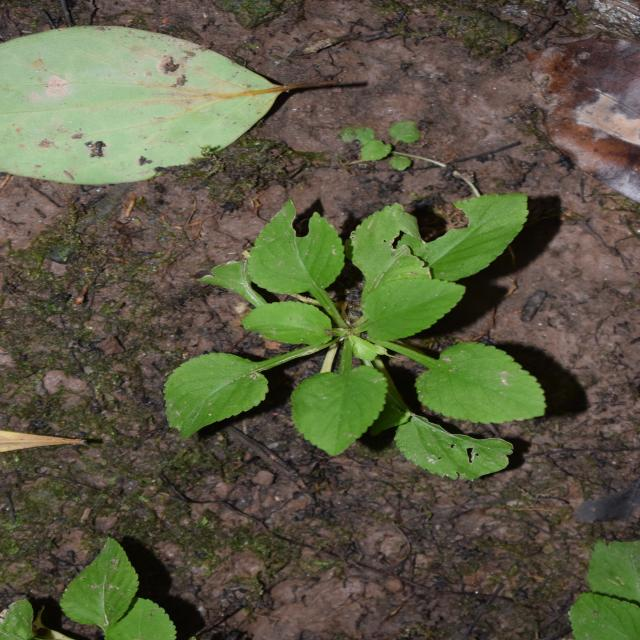Viola: (172, 150, 446, 548)
